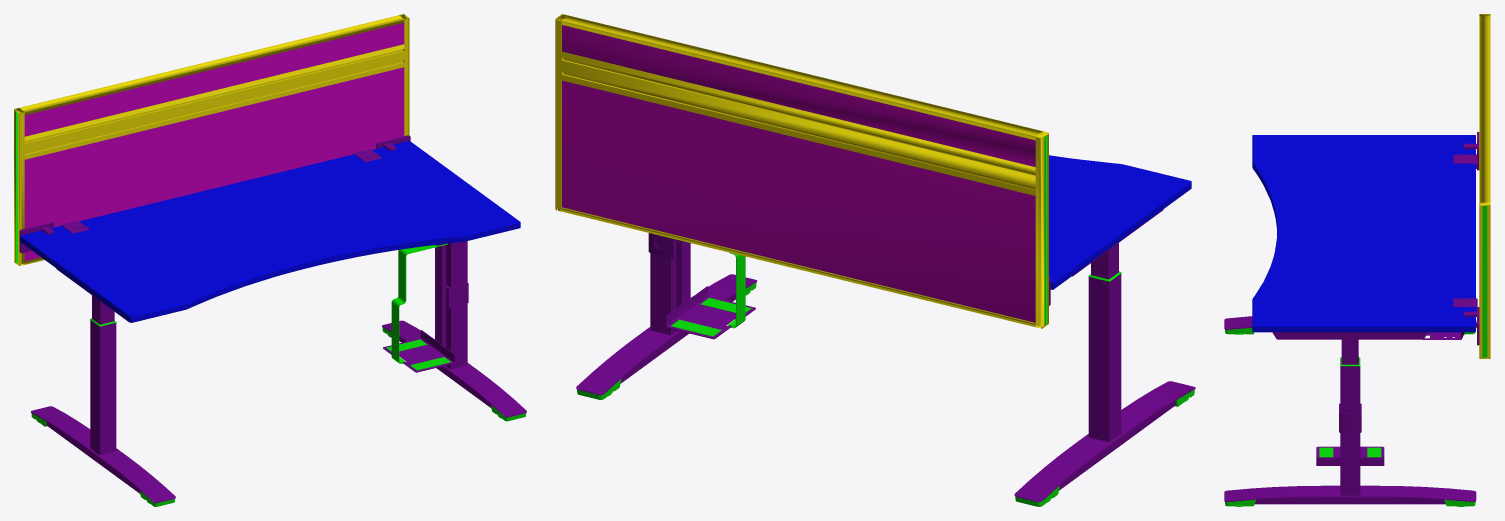
The model's file is Jump_Form_12_160x90+attachment.fbx.
3 renders of one model, left to right at view 1: azimuth 30°, elevation 25°; view 2: azimuth 150°, elevation 25°; view 3: azimuth 270°, elevation 25°, orthographic. The views are drawn at different scales.
Parts seen in each view (by area): view 1: blat_mesh, fabric_movable, rail_mesh, metal_static, dark_static, metal_mesh; view 2: fabric_movable, rail_mesh, metal_static, blat_mesh, dark_static, metal_mesh, dark_mesh_movable; view 3: blat_mesh, metal_static, rail_mesh, metal_mesh, dark_static, dark_mesh_movable.
Part boxes in pixels (x1,y1,x2,y2): blat_mesh: (20, 141, 520, 322); fabric_movable: (24, 23, 404, 261); rail_mesh: (14, 14, 409, 265); metal_static: (31, 241, 526, 503); dark_static: (31, 243, 526, 506); metal_mesh: (19, 135, 516, 324); fabric_movable: (562, 25, 1035, 322); rail_mesh: (555, 14, 1048, 328); metal_static: (576, 233, 1195, 502); blat_mesh: (1049, 155, 1191, 289); dark_static: (577, 252, 1194, 506); metal_mesh: (1049, 209, 1163, 305); dark_mesh_movable: (1044, 135, 1047, 325); blat_mesh: (1252, 135, 1475, 332); metal_static: (1224, 316, 1476, 504); rail_mesh: (1479, 14, 1490, 358); metal_mesh: (1272, 132, 1479, 364); dark_static: (1225, 327, 1475, 506); dark_mesh_movable: (1482, 206, 1487, 357).
Size of the model in its own units: 408 by 303 by 239.
